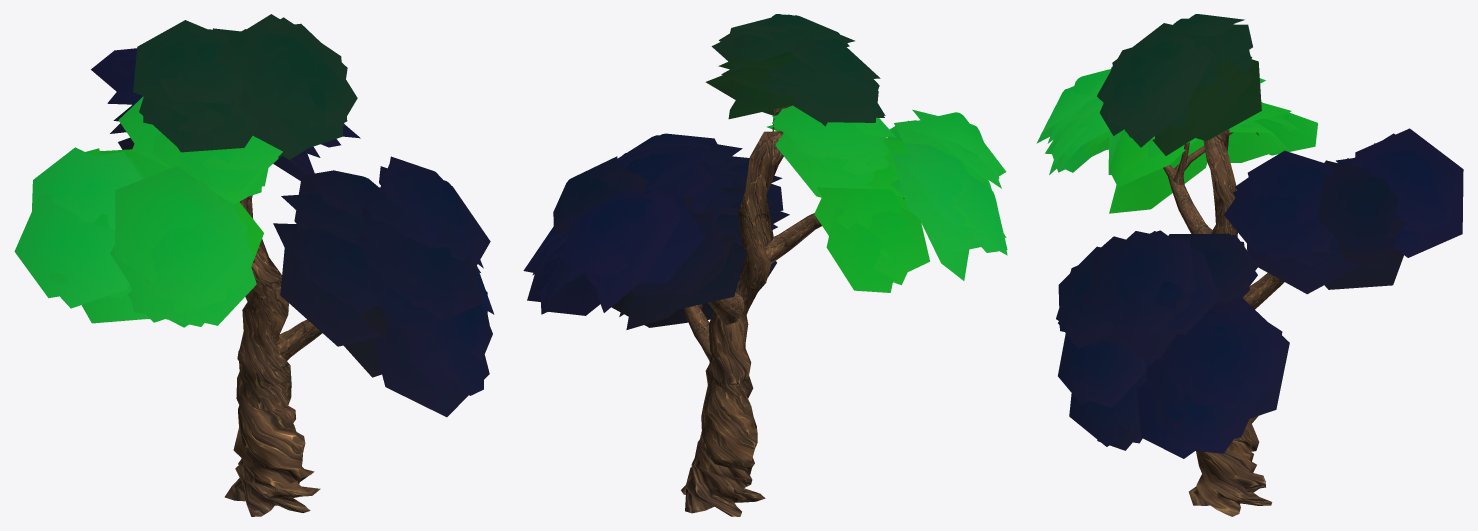
The model's file is FantasyTree6.fbx.
The picture shows the model from 3 angles, left to right: view 1: azimuth 30°, elevation 25°; view 2: azimuth 150°, elevation 25°; view 3: azimuth 270°, elevation 25°; orthographic projection. The views are drawn at different scales.
Visible parts, largest first — view 1: fantasyleaf1_alpha_1, tree2_0; view 2: fantasyleaf1_alpha_1, tree2_0; view 3: fantasyleaf1_alpha_1, tree2_0.
Part boxes in pixels (box(x1,y1,x2,y2)): fantasyleaf1_alpha_1: box(14, 14, 494, 417); tree2_0: box(224, 195, 322, 516); fantasyleaf1_alpha_1: box(523, 14, 1007, 329); tree2_0: box(681, 105, 904, 516); fantasyleaf1_alpha_1: box(1036, 14, 1463, 458); tree2_0: box(1163, 129, 1284, 516).
Bounding box in the file's own units: 756 × 756 × 662.
1 material, 1 textured.
